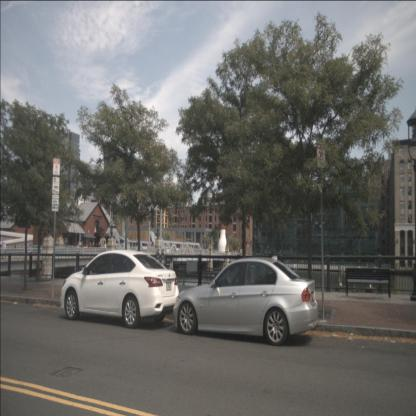vehicle-car: (173, 257, 318, 347), (60, 251, 180, 329), (26, 245, 43, 256)
